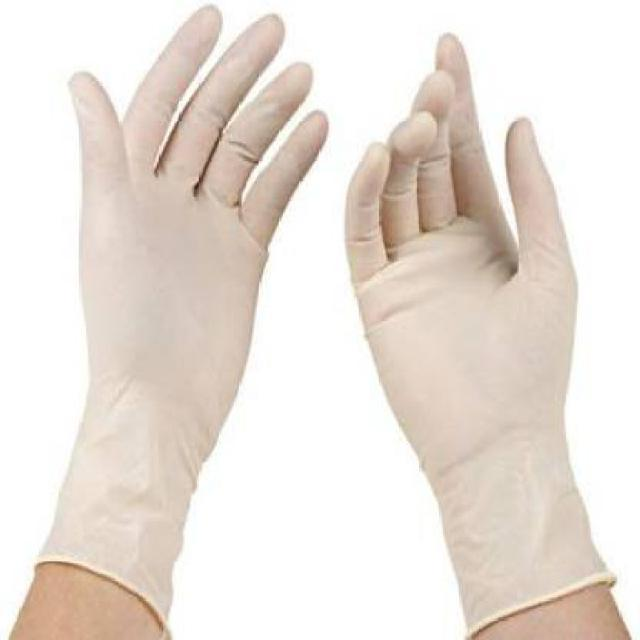gloved_hand: (1, 0, 617, 562), (0, 562, 2, 578)
